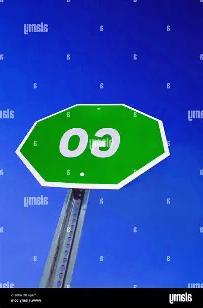Go: (21, 104, 164, 189)
